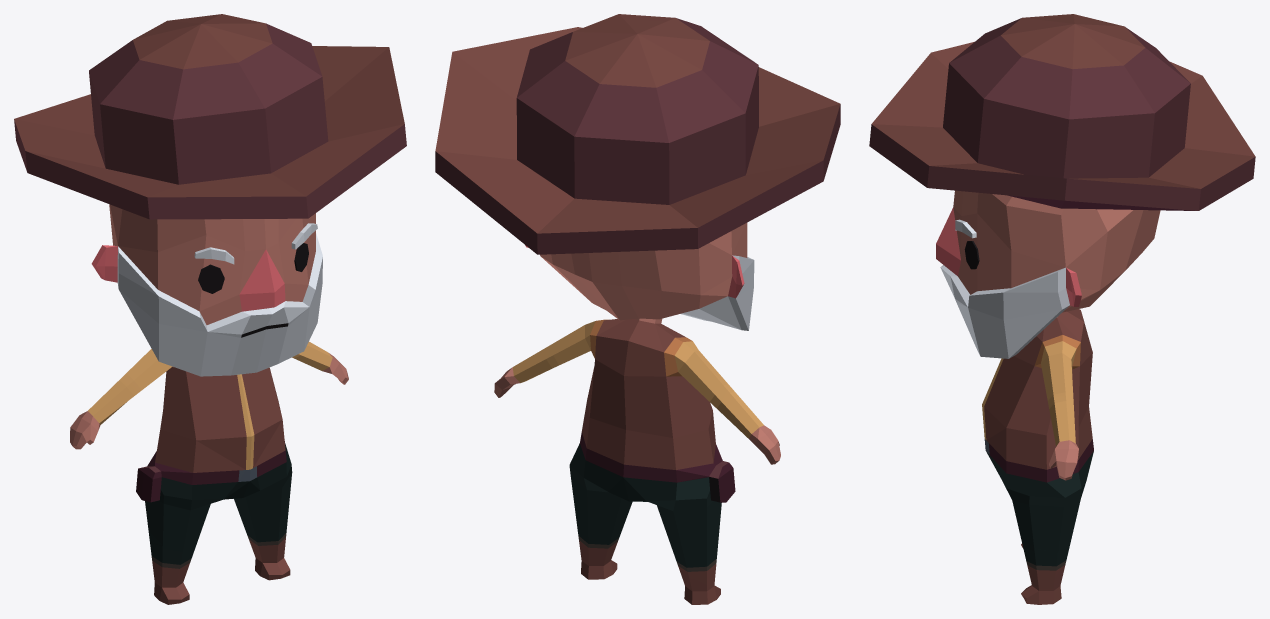
Rendered from character.fbx.
3 views of the same model, side by side, from view 1: azimuth 30°, elevation 25°; view 2: azimuth 150°, elevation 25°; view 3: azimuth 270°, elevation 25° (orthographic). The views are drawn at different scales.
Parts seen in each view (by area): view 1: Cylinder, BODY.004; view 2: Cylinder, BODY.004; view 3: Cylinder, BODY.004.
Part boxes in pixels (box(x1,y1,x2,y2)): Cylinder: box(14, 14, 406, 219); BODY.004: box(70, 204, 348, 604); Cylinder: box(435, 14, 840, 254); BODY.004: box(494, 223, 780, 604); Cylinder: box(869, 14, 1255, 210); BODY.004: box(936, 190, 1160, 604).
Size of the model in its own units: 64.99 by 93.79 by 59.92.
Materials: 1 (1 with a texture image).
